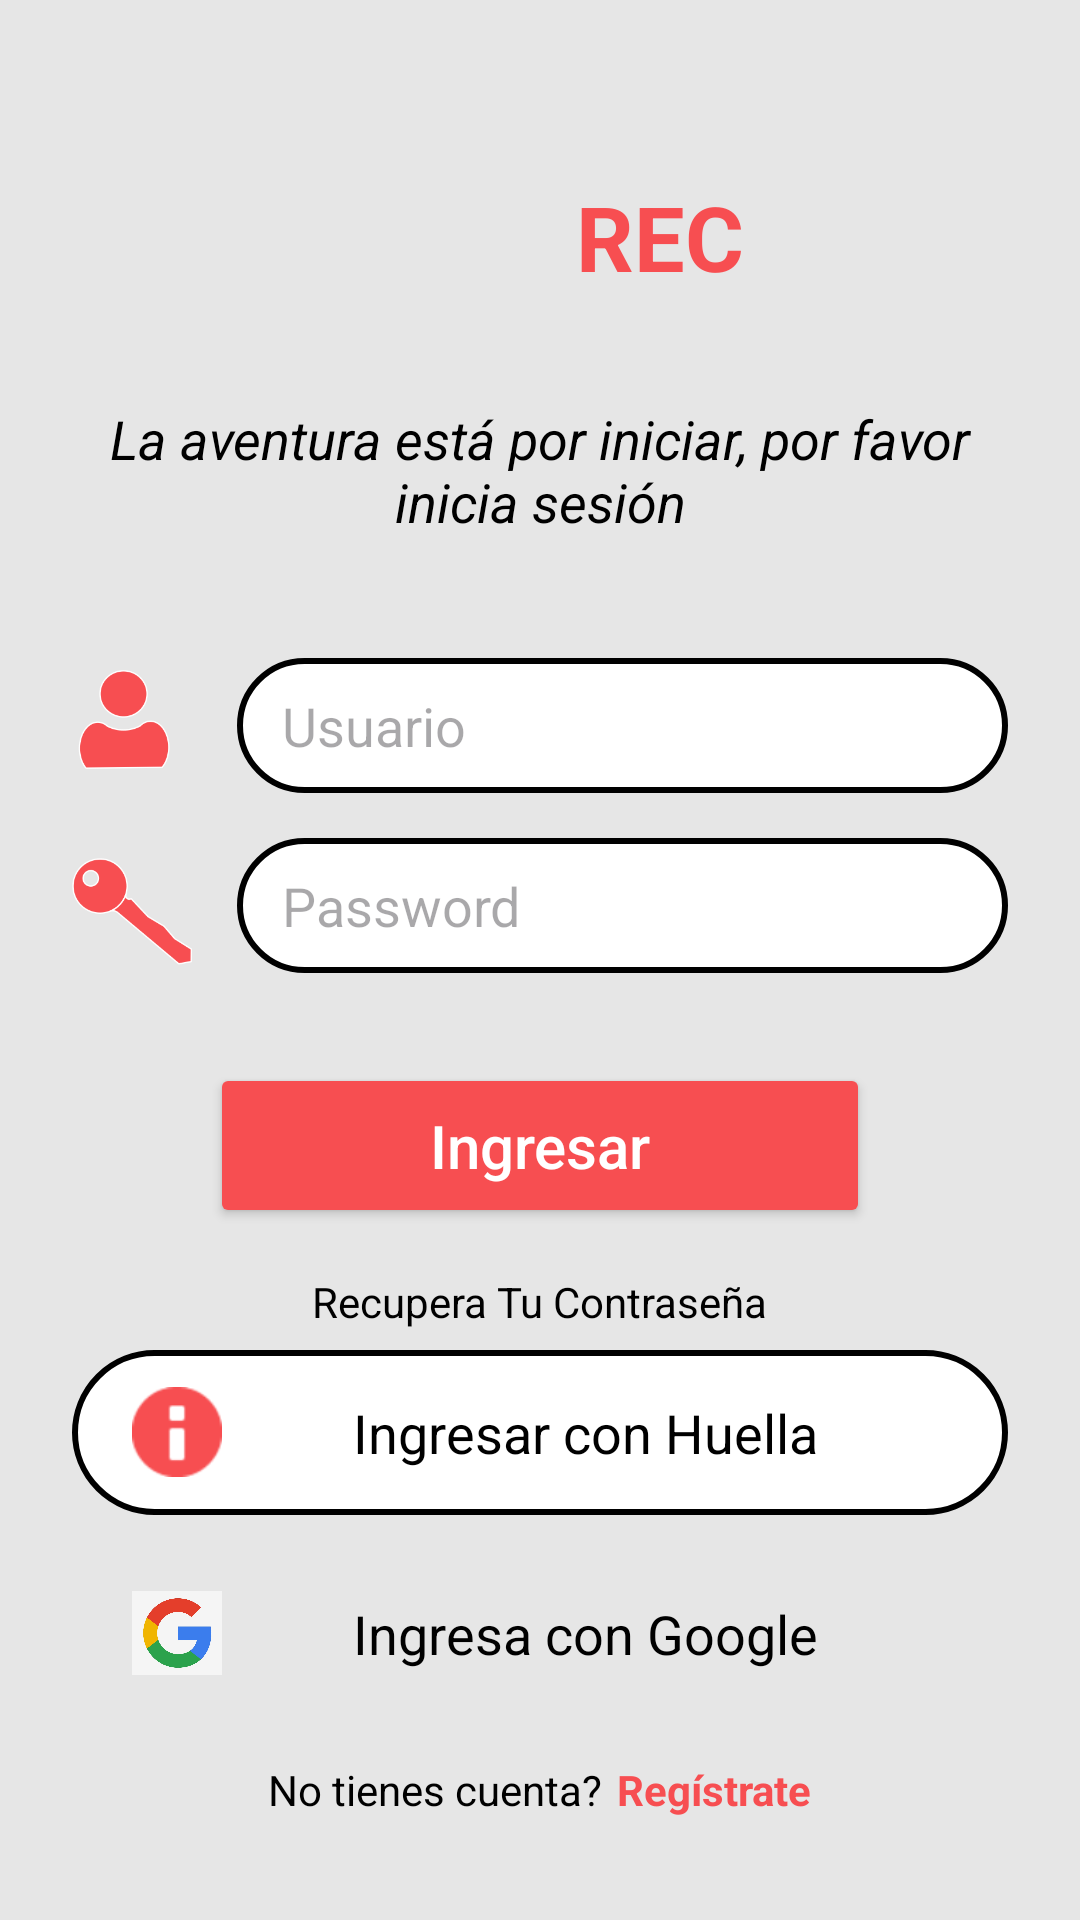

Screen size 1080 x 1920. Icon name, then its box in pixels as (x1, y1, x2, y2):
info: (132, 1387, 222, 1477)
user: (79, 671, 169, 768)
